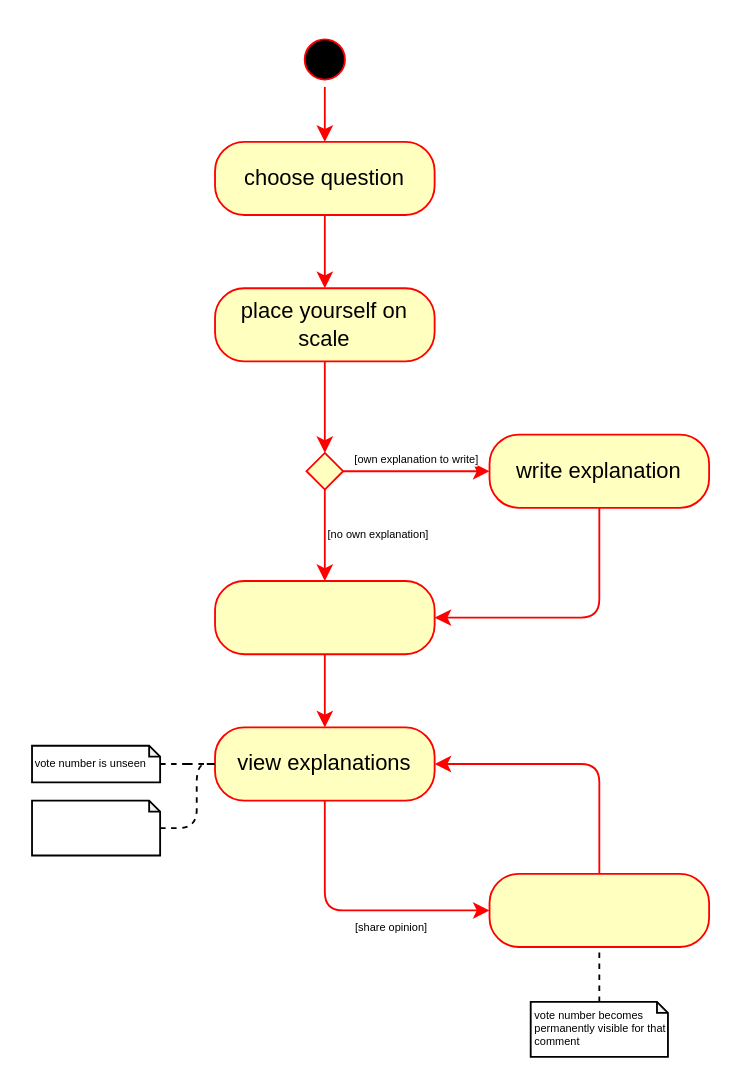
Image size: 741x1089. Some labels were removed from this diagram. The shapes that lost their labels are listed below. From the top down, each one's centre as x and y in pixels, then its label:
point (324, 616): submit
point (95, 827): see "other sides" explanations
point (598, 909): upvote/downvote
